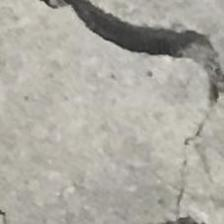Crack: (42, 2, 224, 121)
